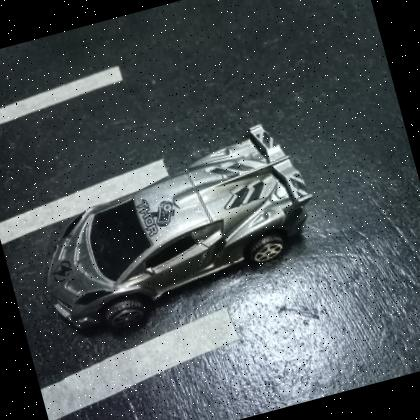Car: (20, 111, 334, 344)
